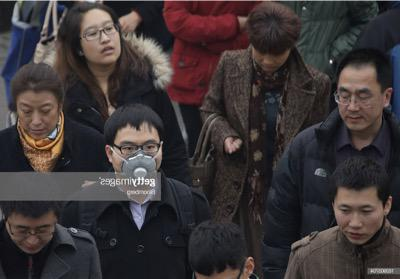with_mask: (110, 137, 163, 186)
without_mask: (331, 200, 382, 246), (336, 84, 382, 134), (78, 17, 122, 66), (15, 98, 58, 140), (7, 218, 54, 254), (251, 46, 288, 73)
